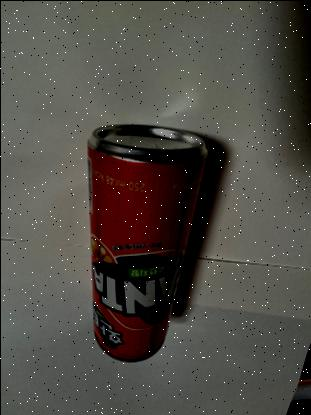Can: (83, 121, 211, 365)
